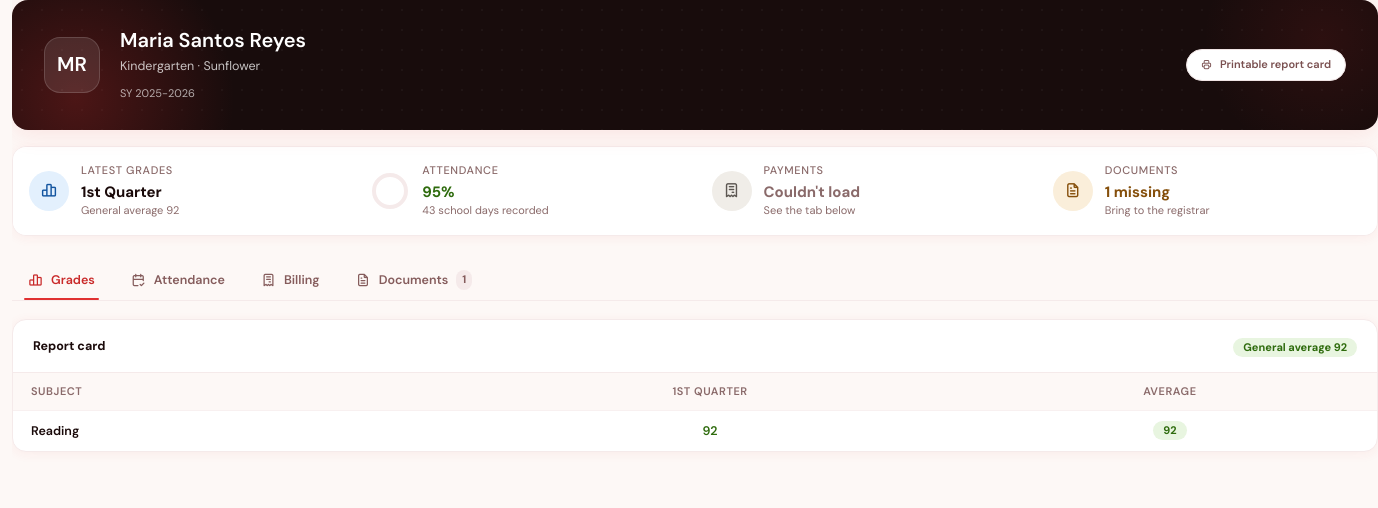
it: GuardianChildPage — a failed fetch is never reported as 'nothing owed' › says the billing section failed rather than 'No billing records found'
The image size is (1378, 508).
Expected: the heading "Maria Santos Reyes" is shown, [120,27,306,53]
Click the tab "Billing".
click(290, 280)  # box [245,261,336,300]
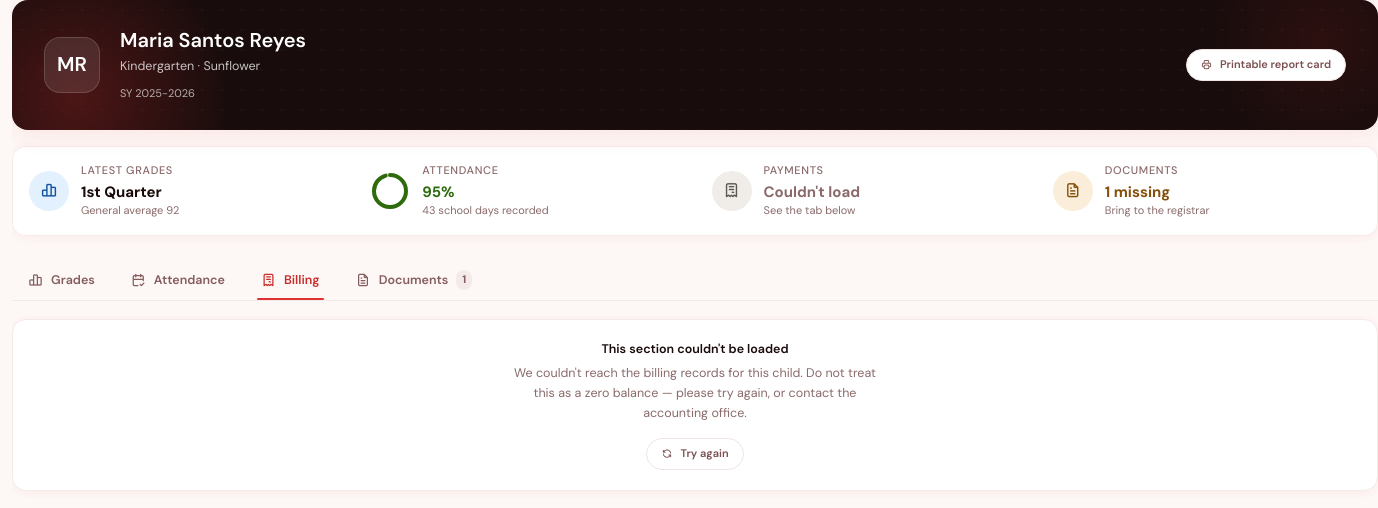
Expected: the text "This section couldn't be loaded" is shown, [601,341,789,357]
Expected: the text "Do not treat this as a zero balance" is shown, [514,365,876,421]
